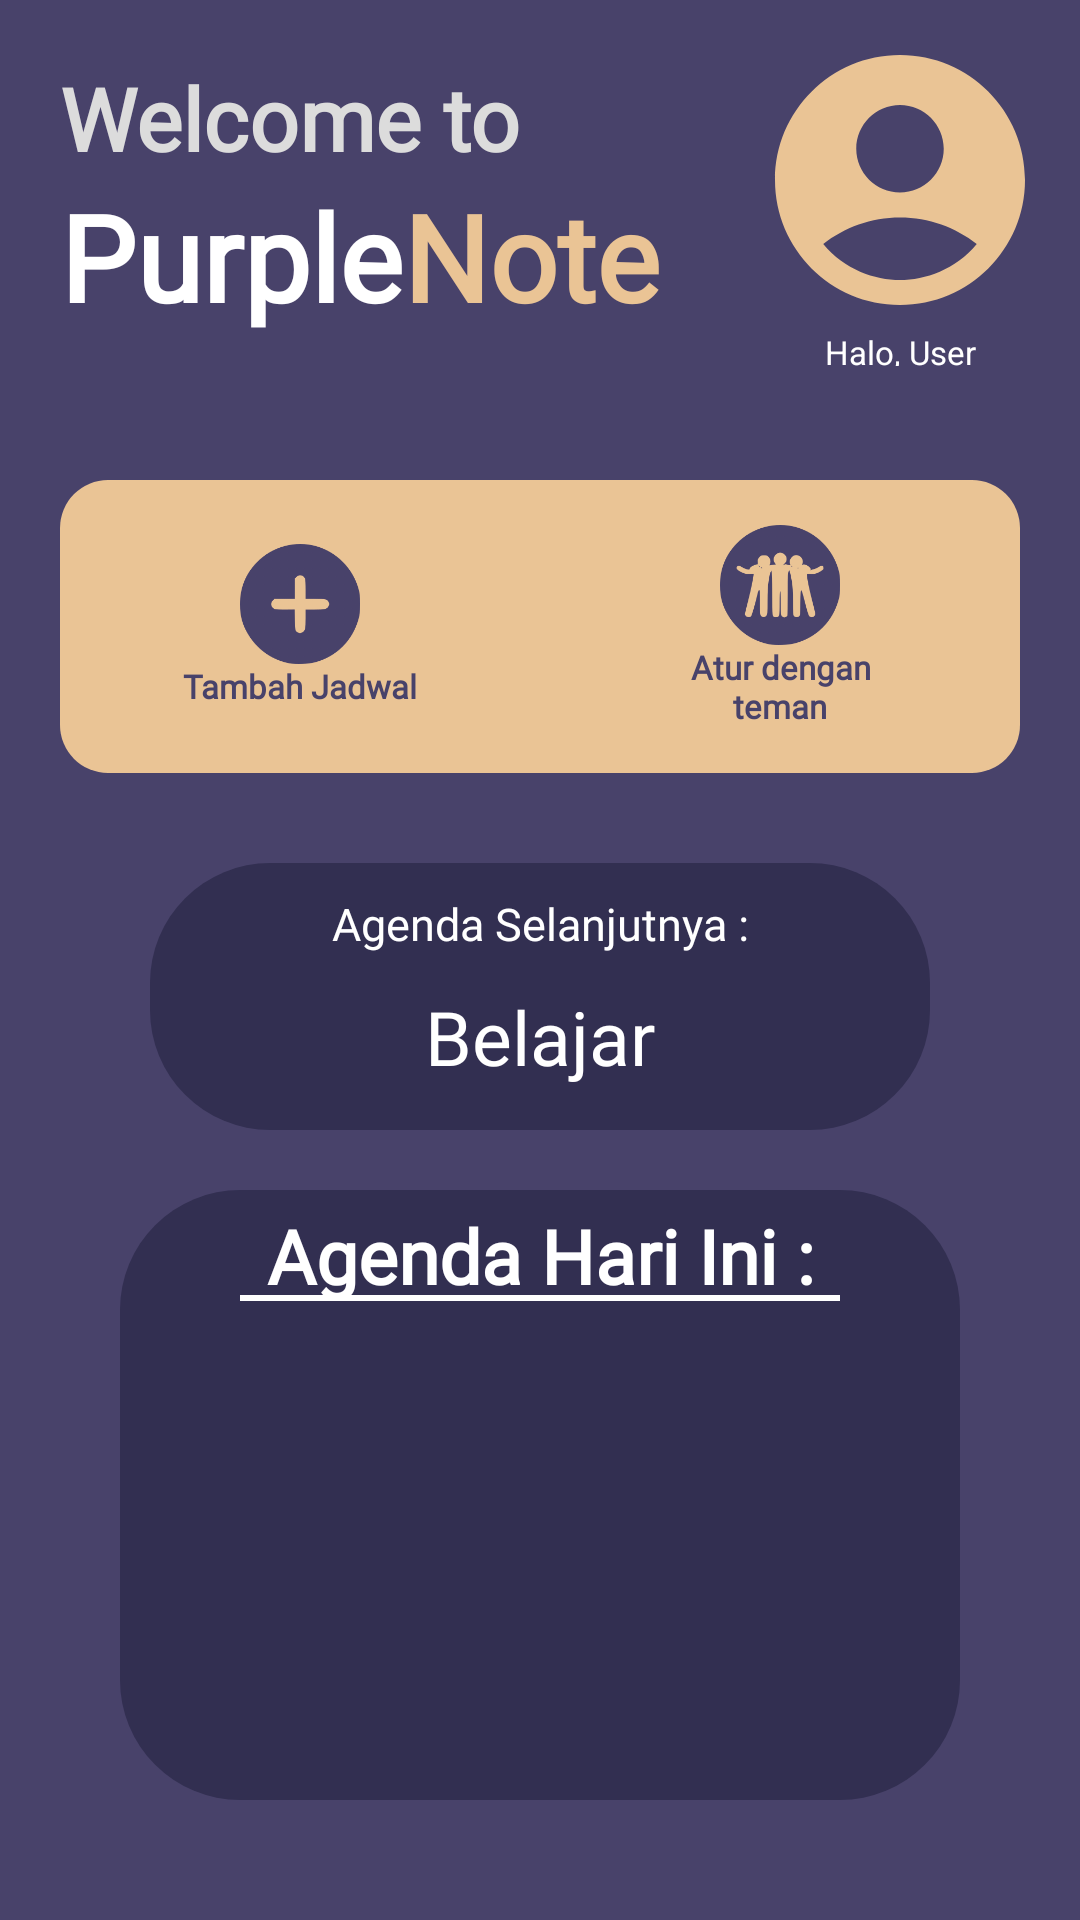

Screen size 1080 x 1920. Icon name, then its center in pixels as (x=x, y=y):
account circle: (x=900, y=180)
plus: (x=300, y=604)
temanad: (x=780, y=585)
